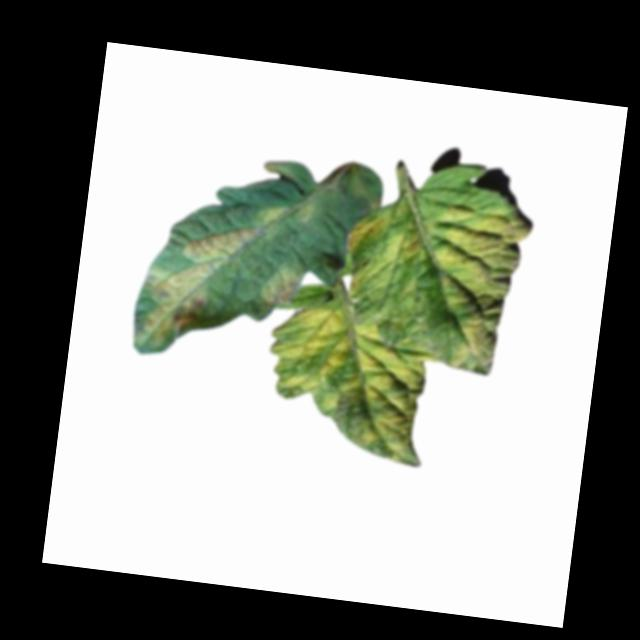Leaf_Mold: (255, 298, 436, 465), (418, 200, 535, 375), (132, 211, 264, 359), (340, 202, 426, 306), (256, 188, 318, 233), (262, 258, 307, 310)
